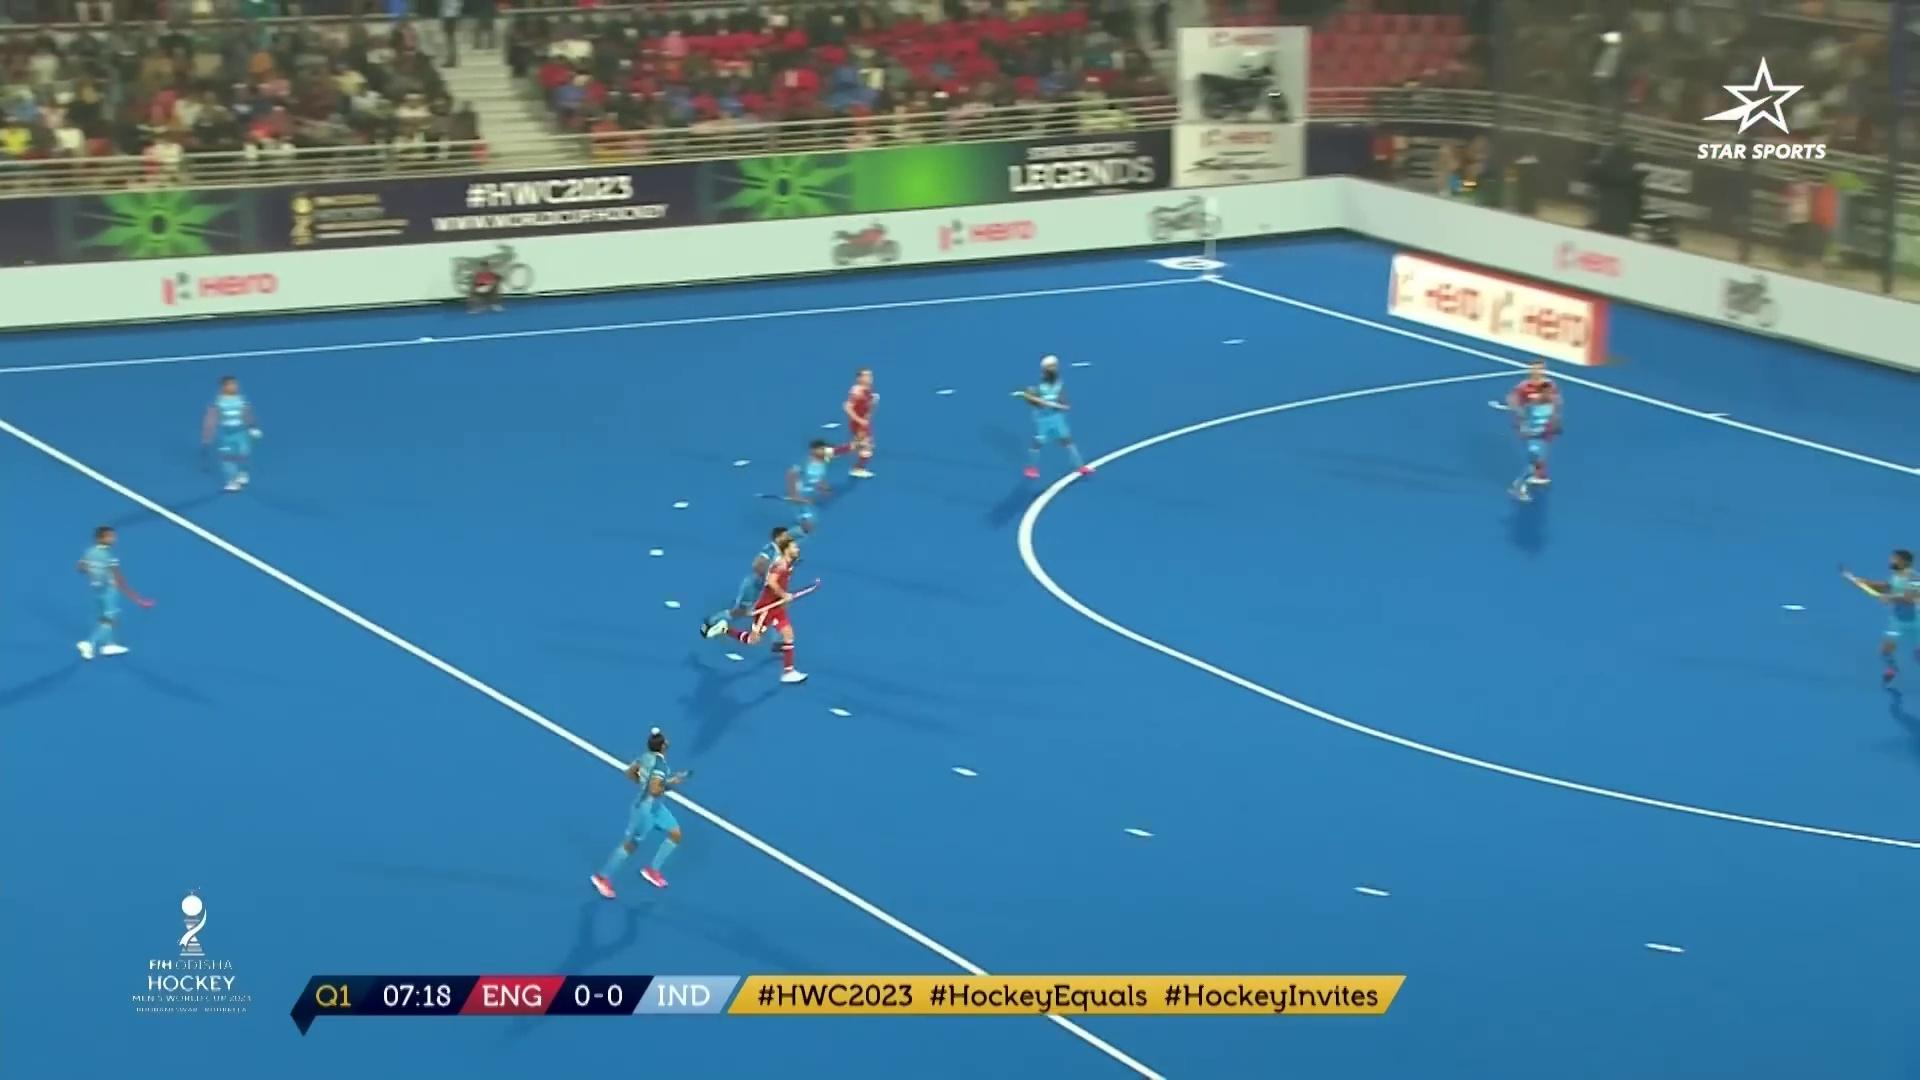ball: (1758, 587, 1821, 634)
